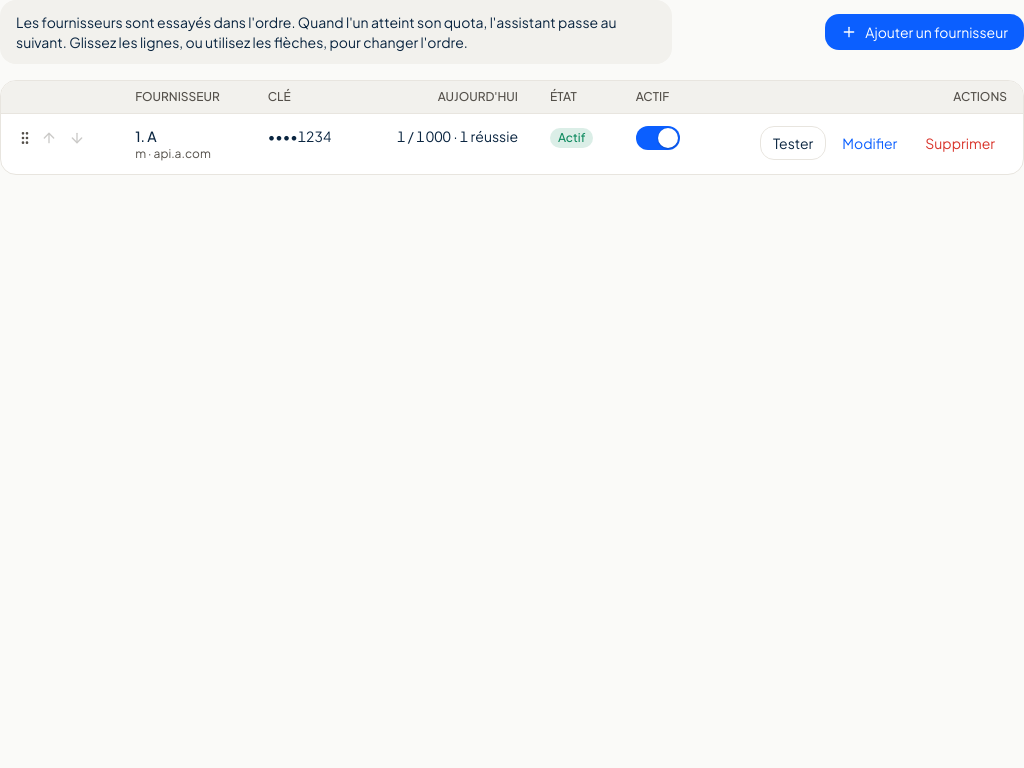
Test case: /assistant › suppression refusée : le message d’action s’affiche
The image size is (1024, 768).
Click the button with test id "provider-delete-a" at (960, 143), box [913,127,1007,159]
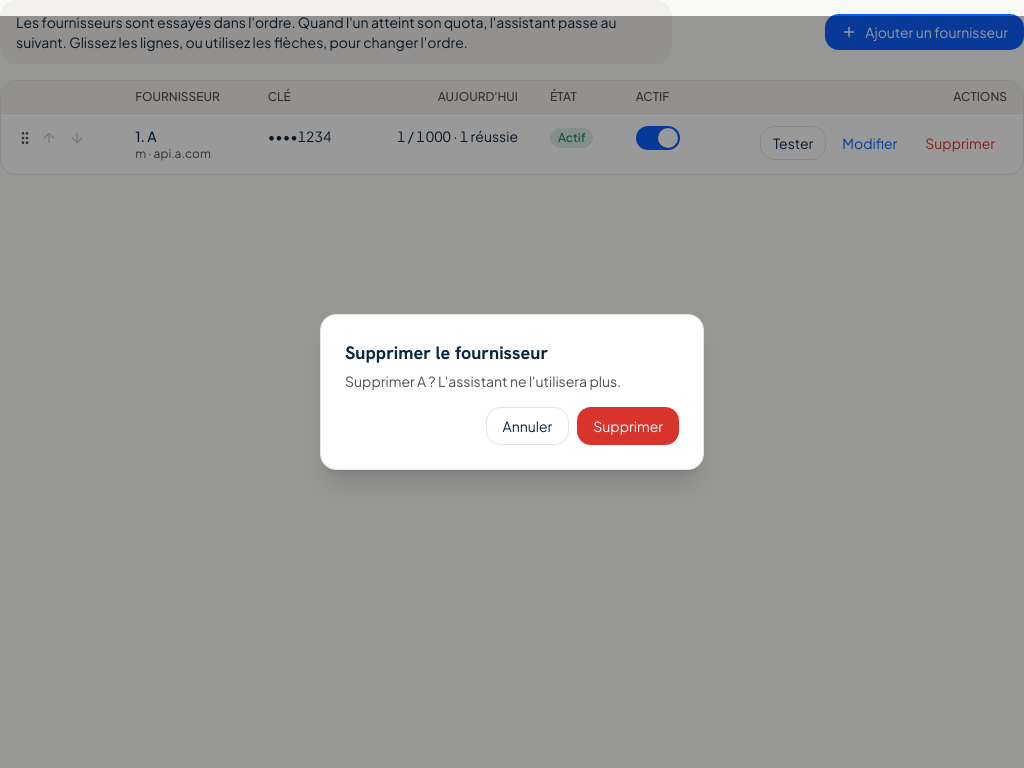
Click the button "Supprimer" at (628, 426), box [577,407,679,445]
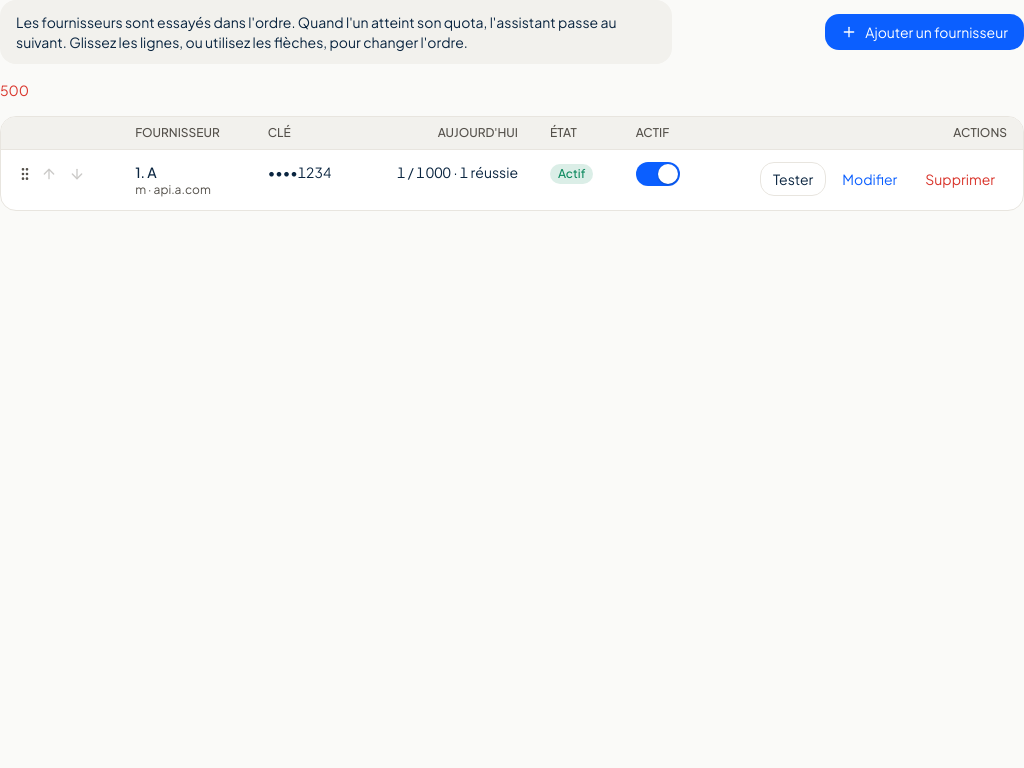
Expected: the message "500" is shown, [0,81,29,99]
